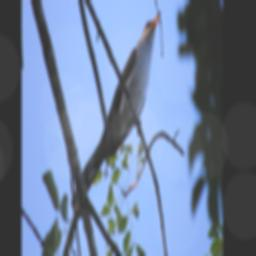Cuckoo: (81, 7, 163, 187)
